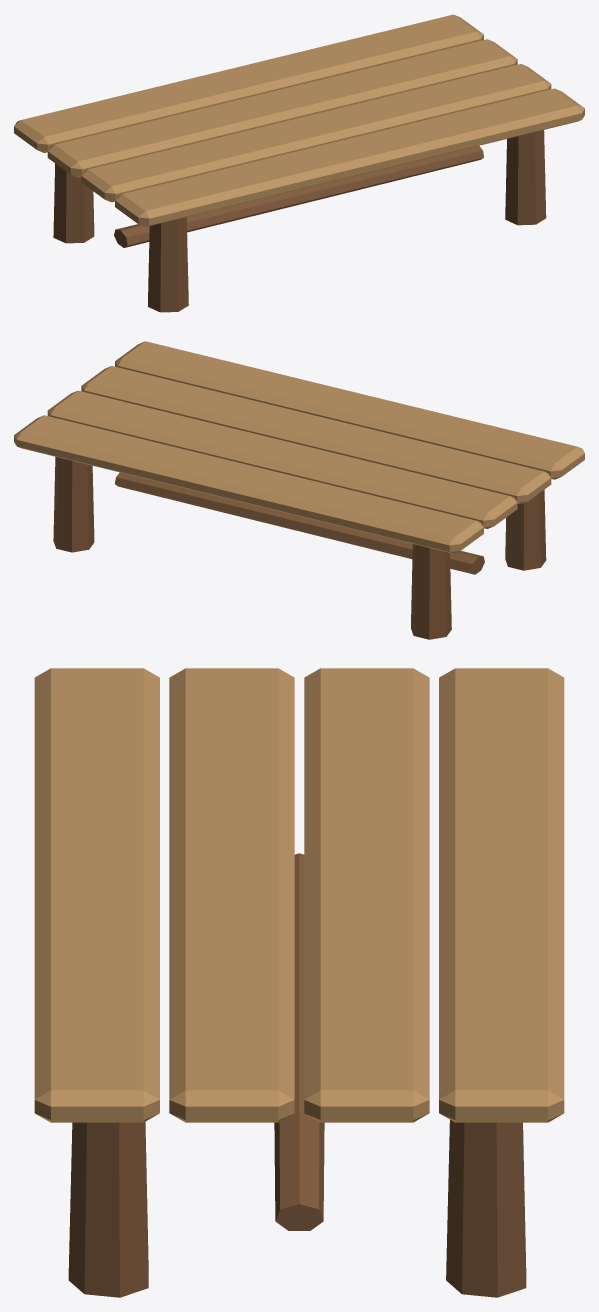
File: CC_DiningTable.fbx
The picture shows the model from 3 angles, top to bottom: view 1: azimuth 30°, elevation 25°; view 2: azimuth 150°, elevation 25°; view 3: azimuth 270°, elevation 25°; orthographic projection. The views are drawn at different scales.
Parts seen in each view (by area): view 1: Plank.032, Plank.034, Plank.033, Plank.035, Brace.007, Leg.042, Leg.040, Leg.041; view 2: Plank.035, Plank.033, Plank.034, Plank.032, Brace.007, Leg.041, Leg.043, Leg.040; view 3: Plank.032, Plank.035, Plank.033, Plank.034, Leg.043, Leg.042, Brace.007.
Part boxes in pixels (x1,y1,x2,y2): Plank.032: [115, 88, 584, 226]; Plank.034: [47, 39, 517, 177]; Plank.033: [81, 64, 551, 202]; Plank.035: [14, 14, 483, 152]; Brace.007: [114, 146, 483, 247]; Leg.042: [505, 130, 546, 225]; Leg.040: [148, 217, 188, 312]; Leg.041: [53, 163, 94, 243]; Plank.035: [14, 415, 483, 553]; Plank.033: [81, 366, 551, 504]; Plank.034: [47, 390, 517, 528]; Plank.032: [115, 341, 584, 479]; Brace.007: [115, 472, 484, 574]; Leg.041: [411, 544, 451, 639]; Leg.043: [53, 456, 94, 552]; Leg.040: [505, 489, 546, 570]; Plank.032: [34, 668, 159, 1122]; Plank.035: [439, 668, 564, 1122]; Plank.033: [169, 668, 294, 1122]; Plank.034: [304, 668, 429, 1122]; Leg.043: [446, 1120, 526, 1297]; Leg.042: [68, 1122, 148, 1297]; Brace.007: [274, 853, 324, 1230].
Size of the model in its own units: 3.3 by 0.8 by 1.69.
